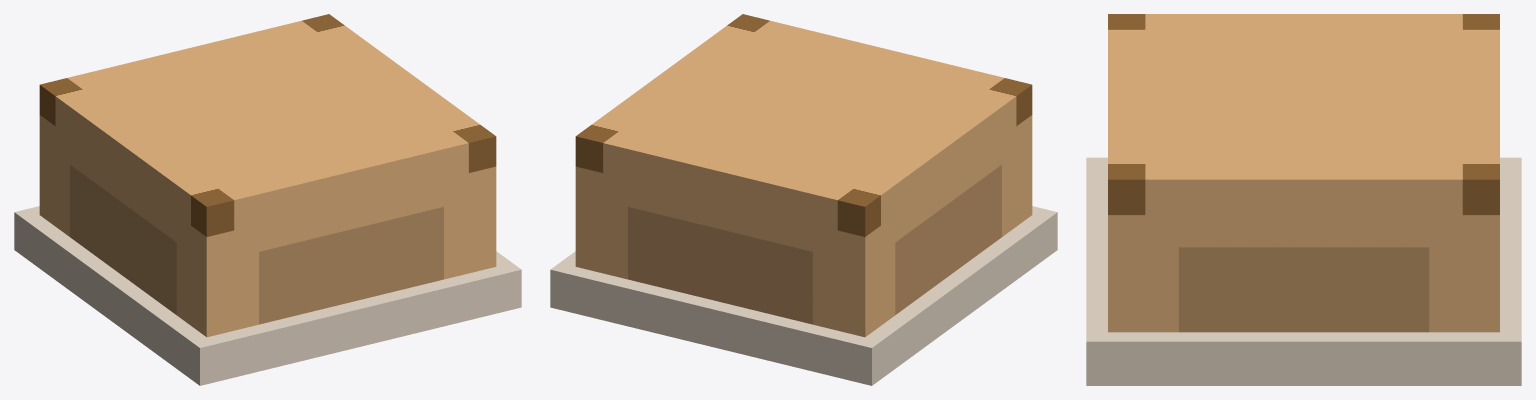
The model's file is PedestalOne.fbx.
3 views of the same model, side by side, from view 1: azimuth 30°, elevation 25°; view 2: azimuth 150°, elevation 25°; view 3: azimuth 270°, elevation 25° (orthographic). The views are drawn at different scales.
Parts seen in each view (by area): view 1: PedestalOne; view 2: PedestalOne; view 3: PedestalOne.
Boxes of the visible parts, x1,y1,x2,y2 form: PedestalOne: (14, 14, 521, 385); PedestalOne: (550, 14, 1057, 385); PedestalOne: (1086, 14, 1521, 385).
Bounding box in the file's own units: 2 × 1 × 2.
